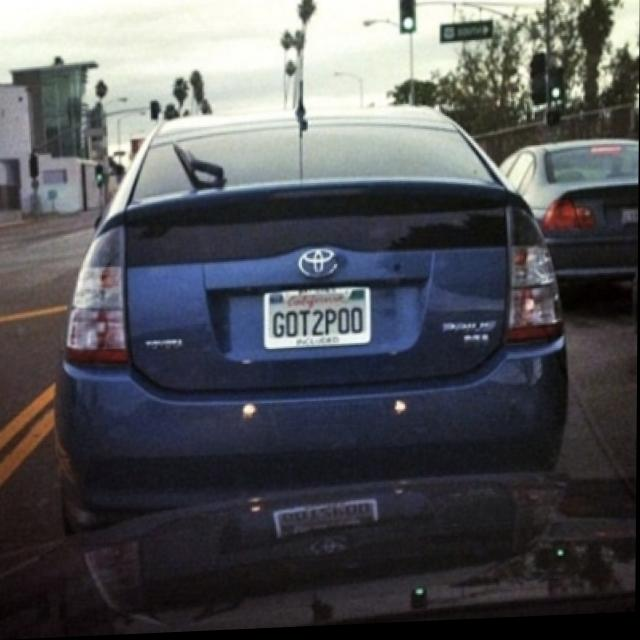licence: (262, 290, 372, 350)
